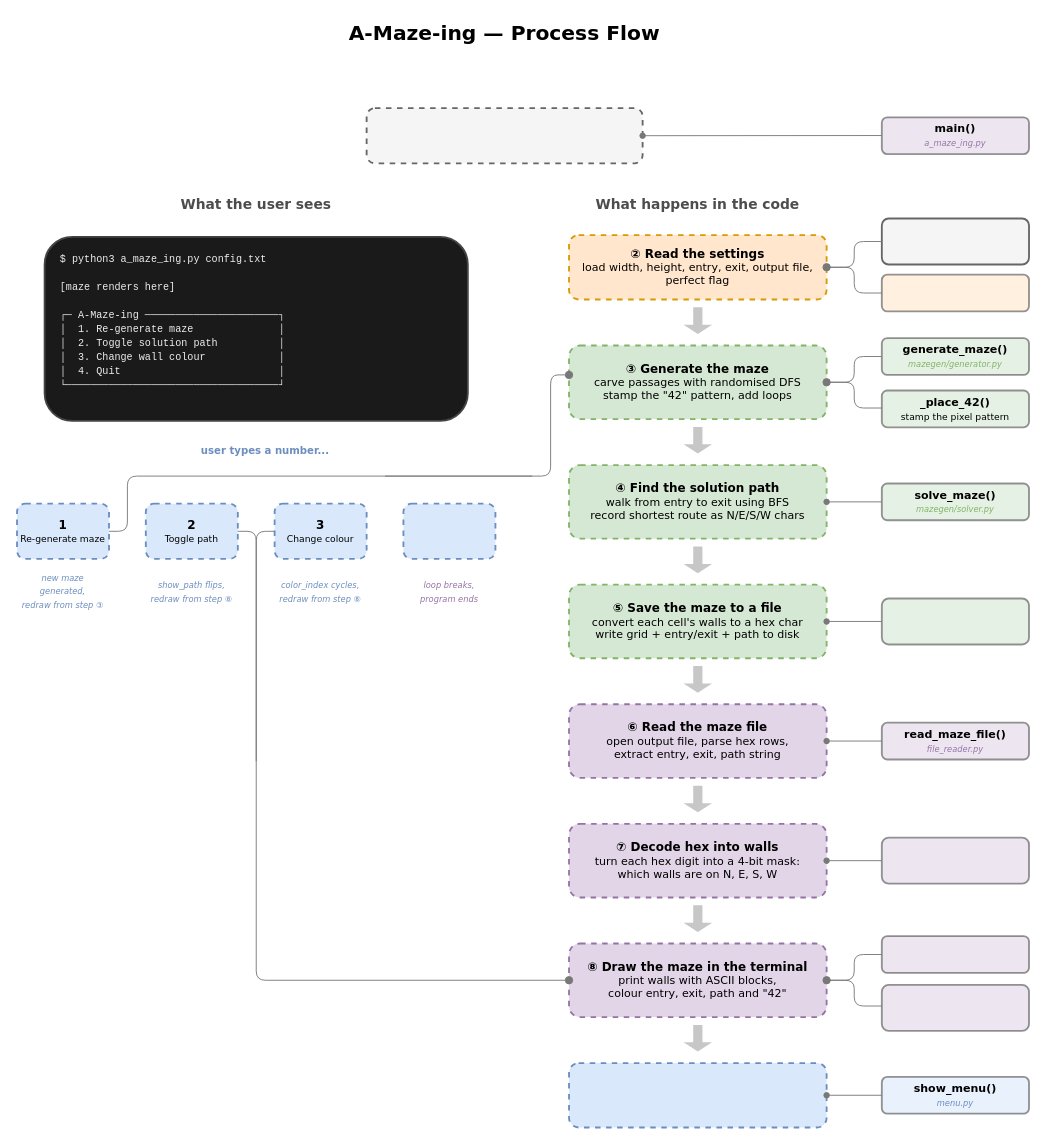
Some shapes in this 1045 by 1144 pixel diagram are drawn without their labels. Here are the shapes that lost their labels. From the top down, the centre of each, then its label:
At pixel 504 135: "① Start the program user runs python3 a_maze_ing.py".
At pixel 954 241: "config.txt KEY=VALUE settings".
At pixel 954 292: "parse_config() config_parser.py".
At pixel 449 530: "4 Quit".
At pixel 954 621: "encode_maze() ints → hex strings mazegen/writer.py".
At pixel 954 860: "decode_cell() hex char → wall dict file_reader.py".
At pixel 954 954: "create_grid() display.py".
At pixel 954 1007: "paint_maze() ANSI colour per cell display.py".
At pixel 697 1095: "⑨ Show menu & wait for input print menu, read number 1–4".
